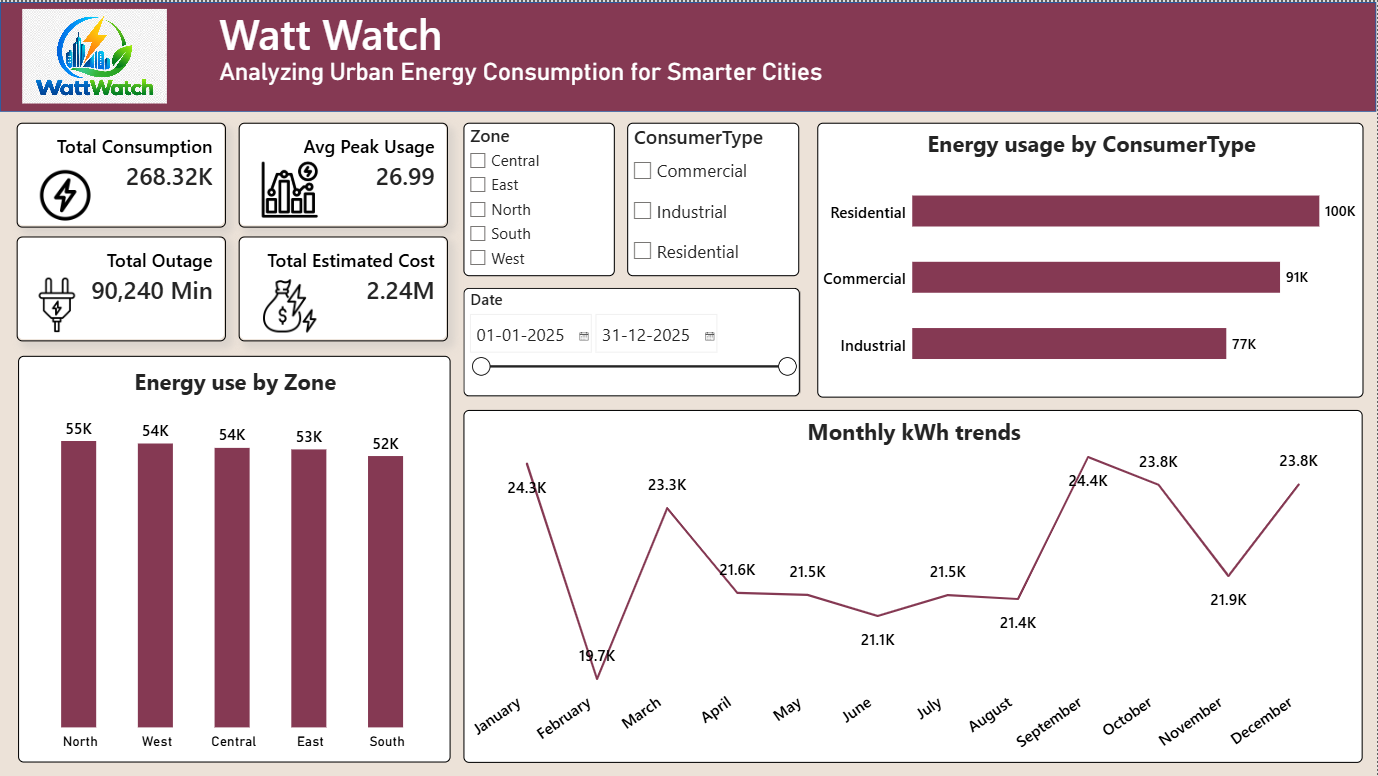

The dashboard page shown, as its layout file describes it:
{"tool":"powerbi","page":{"name":"Dashboard","canvas":[1920,1080],"ordinal":0},"visuals":[{"type":"cardVisual","fields":{"Data":["_Measures.Total Consumption"]},"box":[23.1,168.2,292.1,146],"z":0},{"type":"shape","box":[0,0,1919.2,153],"z":1000},{"type":"cardVisual","fields":{"Data":["_Measures.Avg Peak Usage"]},"box":[333.4,168.2,292.1,146],"z":2000},{"type":"cardVisual","fields":{"Data":["_Measures.Total Outage Minutes"]},"box":[23.1,327.2,292.1,146],"z":3000},{"type":"cardVisual","fields":{"Data":["_Measures.Total Estimated Cost"]},"box":[333.4,327.2,292.1,146],"z":4000},{"type":"clusteredColumnChart","title":"Energy use by Zone ","fields":{"Category":["SmartCityEnergy.Zone"],"Y":["_Measures.Total Consumption"]},"box":[25.1,494.2,603.1,567.5],"z":5000},{"type":"clusteredBarChart","title":"Energy usage by ConsumerType ","fields":{"Category":["SmartCityEnergy.ConsumerType"],"Y":["_Measures.Total Consumption"]},"box":[1139.1,167.5,761.5,383.4],"z":6000},{"type":"lineChart","title":"Monthly kWh trends ","fields":{"Category":["SmartCityEnergy.Date.Variation.Date Hierarchy.Year","SmartCityEnergy.Date.Variation.Date Hierarchy.Quarter","SmartCityEnergy.Date.Variation.Date Hierarchy.Month","SmartCityEnergy.Date.Variation.Date Hierarchy.Day"],"Y":["_Measures.Total Consumption"]},"box":[647,569.6,1254.3,492.1],"z":7000},{"type":"slicer","fields":{"Values":["SmartCityEnergy.Zone"]},"box":[647,167.5,211.3,213.9],"z":8000},{"type":"slicer","fields":{"Values":["SmartCityEnergy.ConsumerType"]},"box":[875.3,167.5,239.9,213.9],"z":9000},{"type":"slicer","fields":{"Values":["SmartCityEnergy.Date"]},"box":[647,397.9,469.4,151.3],"z":10000},{"type":"textbox","box":[306.3,4.6,433.6,87.1],"z":11000},{"type":"textbox","box":[306.3,76.9,1141.3,74.4],"z":12000},{"type":"image","box":[38.3,229.5,104.1,78.6],"z":13000},{"type":"image","box":[352.8,214.7,104.1,93.5],"z":14000},{"type":"image","box":[27.6,382.6,104.1,78.6],"z":15000},{"type":"image","box":[352.8,380.4,104.1,85],"z":16000},{"type":"image","box":[31.9,10.6,201.9,131.8],"z":17000}]}

Visuals, with their boxes in screenshot pixels (x1, y1, x2, y2), scaled from the page's 1920x1080 canvas onto the 1378x776 screenshot:
cardVisual - _Measures.Total Consumption: x1=17 y1=121 x2=226 y2=226
shape: x1=0 y1=0 x2=1377 y2=110
cardVisual - _Measures.Avg Peak Usage: x1=239 y1=121 x2=449 y2=226
cardVisual - _Measures.Total Outage Minutes: x1=17 y1=235 x2=226 y2=340
cardVisual - _Measures.Total Estimated Cost: x1=239 y1=235 x2=449 y2=340
"Energy use by Zone " clusteredColumnChart: x1=18 y1=355 x2=451 y2=763
"Energy usage by ConsumerType " clusteredBarChart: x1=818 y1=120 x2=1364 y2=396
"Monthly kWh trends " lineChart: x1=464 y1=409 x2=1365 y2=763
slicer - SmartCityEnergy.Zone: x1=464 y1=120 x2=616 y2=274
slicer - SmartCityEnergy.ConsumerType: x1=628 y1=120 x2=800 y2=274
slicer - SmartCityEnergy.Date: x1=464 y1=286 x2=801 y2=395
textbox: x1=220 y1=3 x2=531 y2=66
textbox: x1=220 y1=55 x2=1039 y2=109
image: x1=27 y1=165 x2=102 y2=221
image: x1=253 y1=154 x2=328 y2=221
image: x1=20 y1=275 x2=95 y2=331
image: x1=253 y1=273 x2=328 y2=334
image: x1=23 y1=8 x2=168 y2=102
